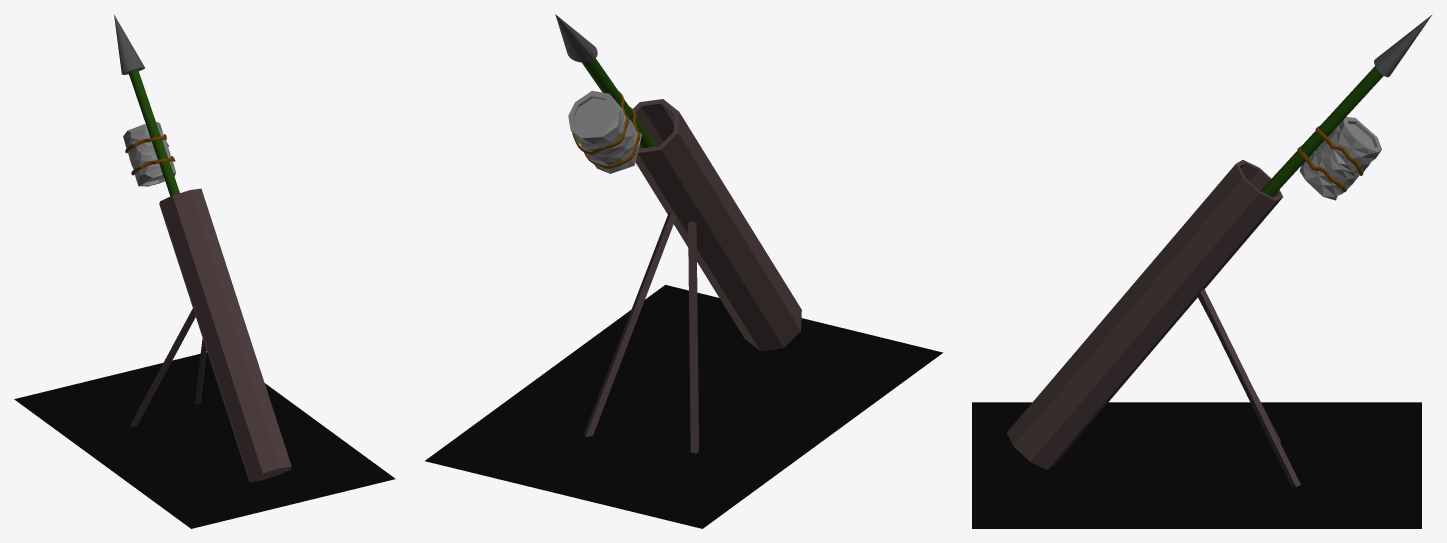
The model's file is SpearGun.fbx.
3 renders of one model, left to right at view 1: azimuth 30°, elevation 25°; view 2: azimuth 150°, elevation 25°; view 3: azimuth 270°, elevation 25°, orthographic. The views are drawn at different scales.
Parts seen in each view (by area): view 1: Plate, Barrel, Can, Spear, LegL, Cone; view 2: Plate, Barrel, Can, LegR, LegL, Spear, Cone; view 3: Plate, Barrel, Can, Spear, LegR, Cone.
Part boxes in pixels (x1,y1,x2,y2): Plate: [14, 352, 395, 528]; Barrel: [159, 188, 291, 482]; Can: [123, 121, 175, 186]; Spear: [128, 69, 179, 196]; LegL: [130, 308, 195, 426]; Cone: [114, 14, 144, 74]; Plate: [425, 285, 942, 528]; Barrel: [633, 99, 801, 350]; Can: [568, 91, 642, 173]; LegR: [584, 212, 675, 436]; LegL: [688, 221, 698, 453]; Spear: [581, 58, 656, 148]; Cone: [555, 14, 597, 62]; Plate: [972, 402, 1421, 528]; Barrel: [1007, 160, 1282, 469]; Can: [1299, 117, 1381, 200]; Spear: [1260, 66, 1383, 196]; LegR: [1198, 288, 1300, 486]; Cone: [1374, 14, 1432, 77].
Size of the model in its own units: 200 by 334 by 307.
